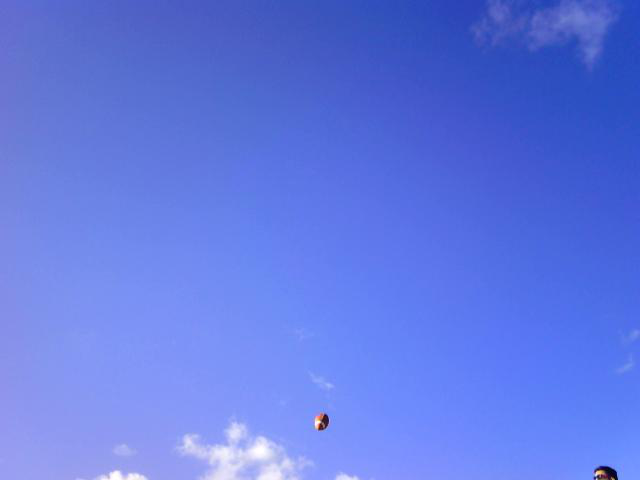football: (314, 407, 331, 437)
